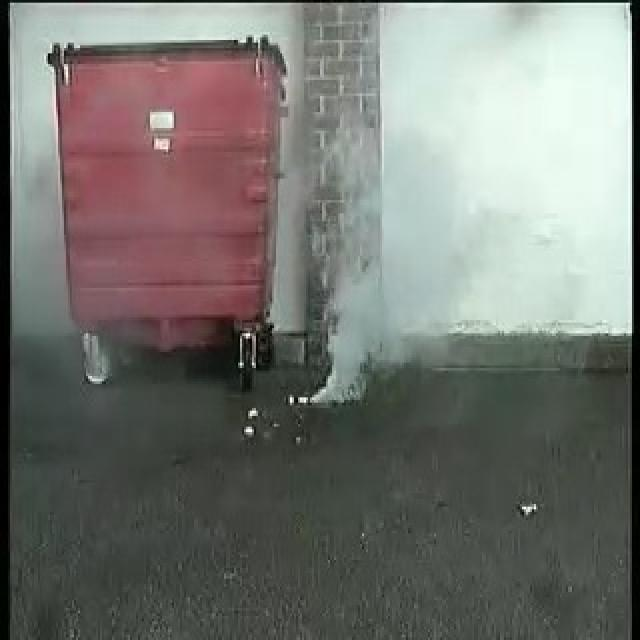smoke: (312, 199, 471, 401)
